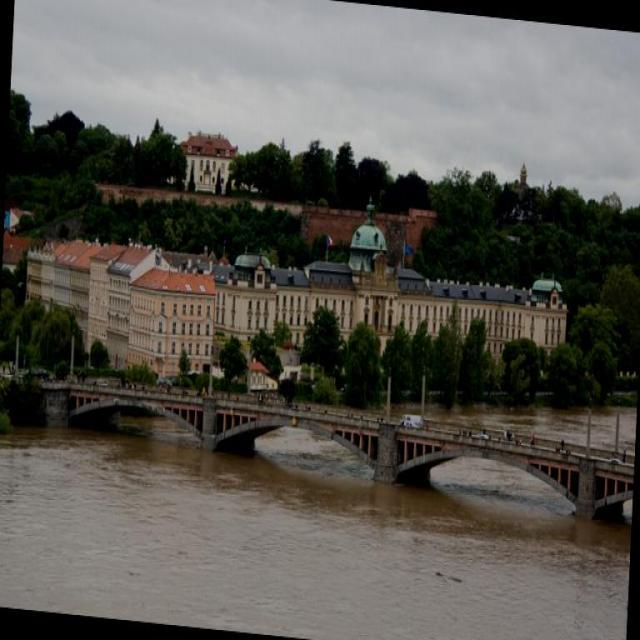flood: (0, 429, 633, 639)
